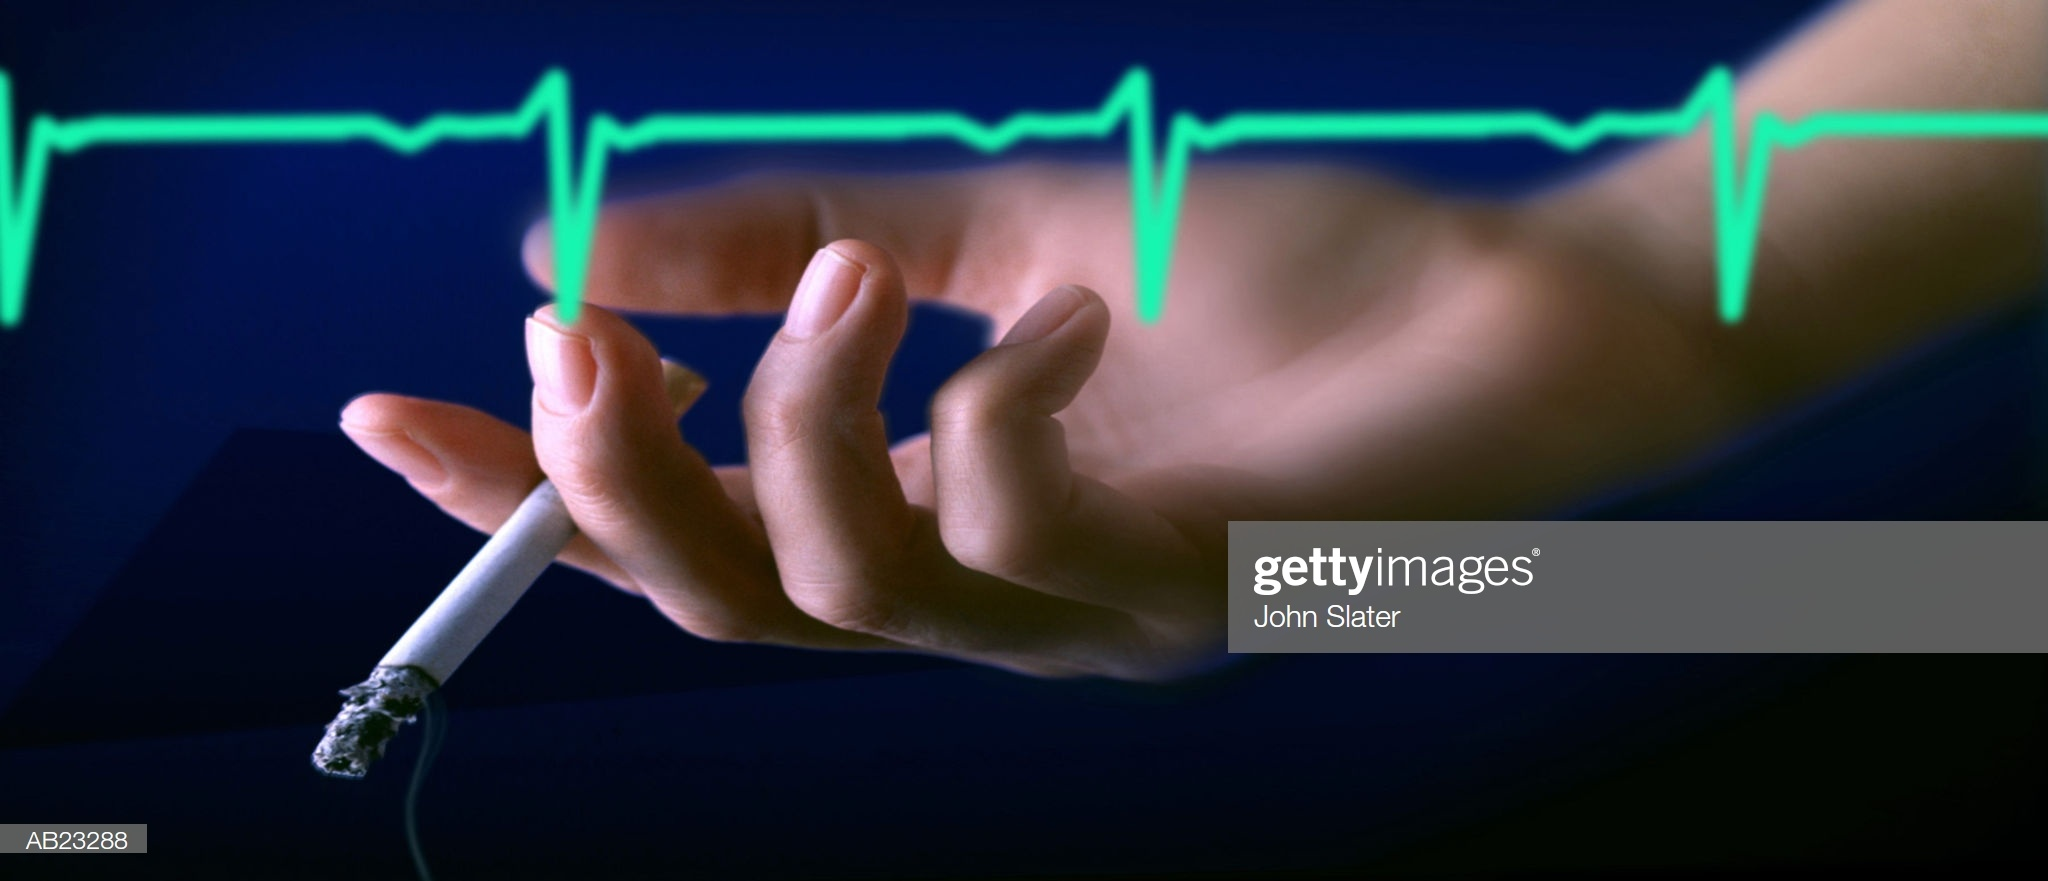sigaretta: (320, 362, 696, 794)
